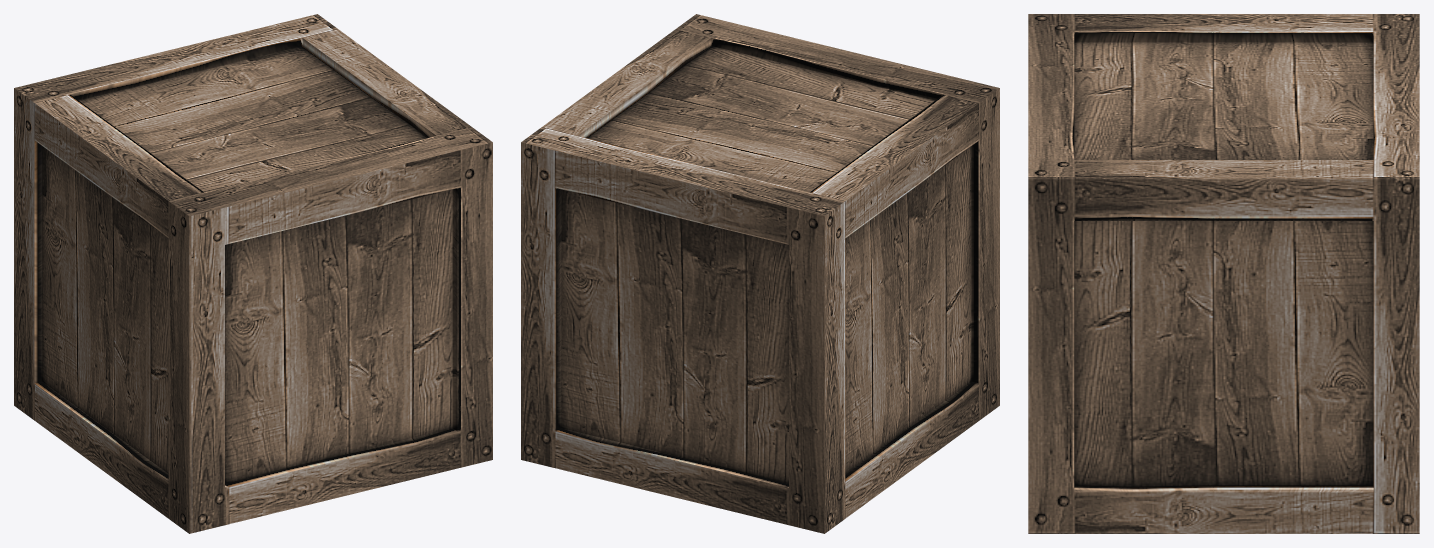
File: Crate.FBX
3 views of the same model, side by side, from view 1: azimuth 30°, elevation 25°; view 2: azimuth 150°, elevation 25°; view 3: azimuth 270°, elevation 25° (orthographic). The views are drawn at different scales.
Parts seen in each view (by area): view 1: Crate; view 2: Crate; view 3: Crate.
Boxes of the visible parts, left/top/right/bottom form: Crate: left=14, top=14, right=492, bottom=533; Crate: left=521, top=14, right=999, bottom=533; Crate: left=1028, top=14, right=1419, bottom=533.
Size of the model in its own units: 100 by 100 by 100.
